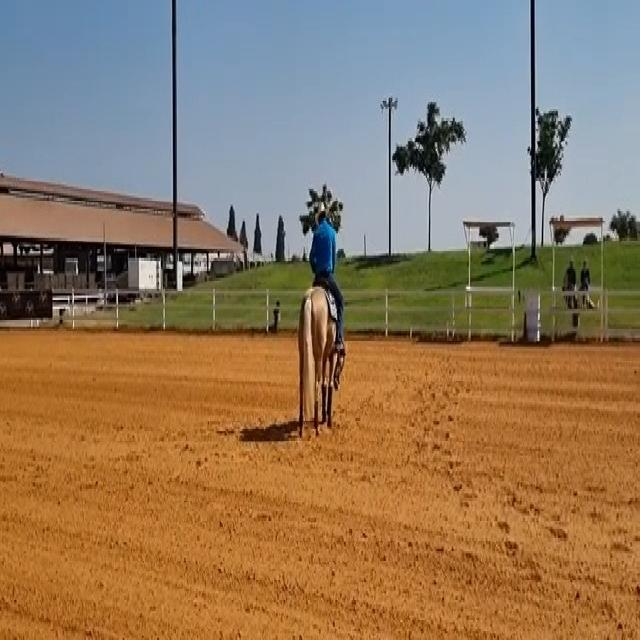horse: (296, 278, 340, 438)
